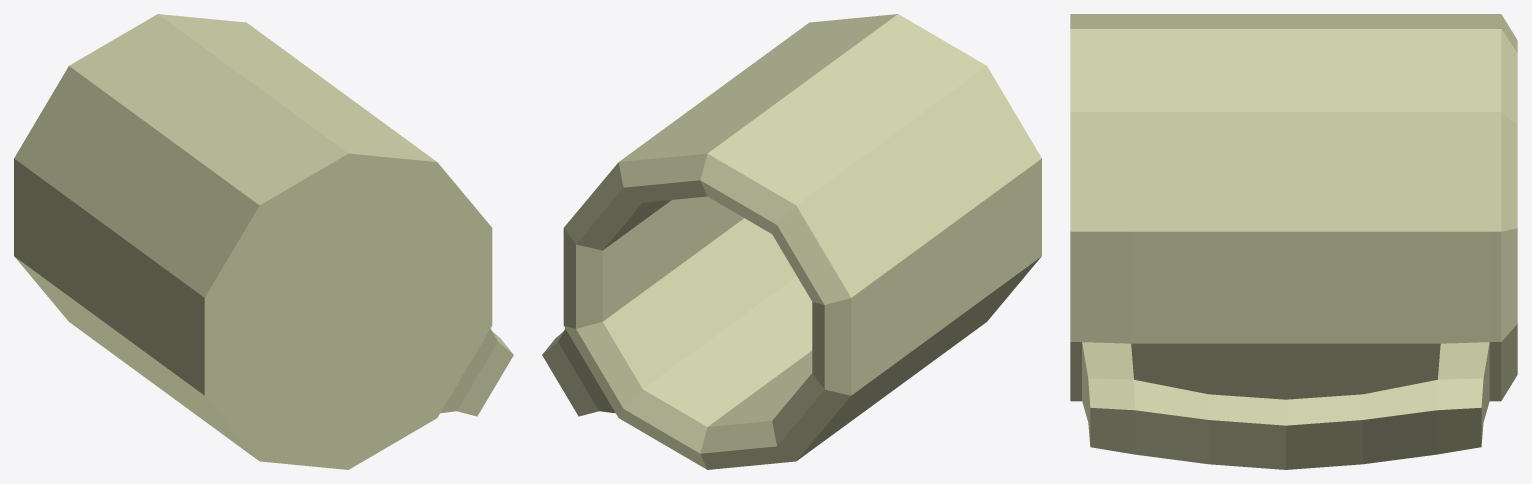
File: Mug.fbx
The picture shows the model from 3 angles, left to right: view 1: azimuth 30°, elevation 25°; view 2: azimuth 150°, elevation 25°; view 3: azimuth 270°, elevation 25°; orthographic projection. The views are drawn at different scales.
Visible parts, largest first — view 1: Mug; view 2: Mug; view 3: Mug.
Part boxes in pixels (bbox=[...]): Mug: bbox=[14, 14, 513, 469]; Mug: bbox=[542, 14, 1041, 469]; Mug: bbox=[1070, 14, 1517, 469].
Size of the model in its own units: 0.1799 by 0.1587 by 0.1767.
